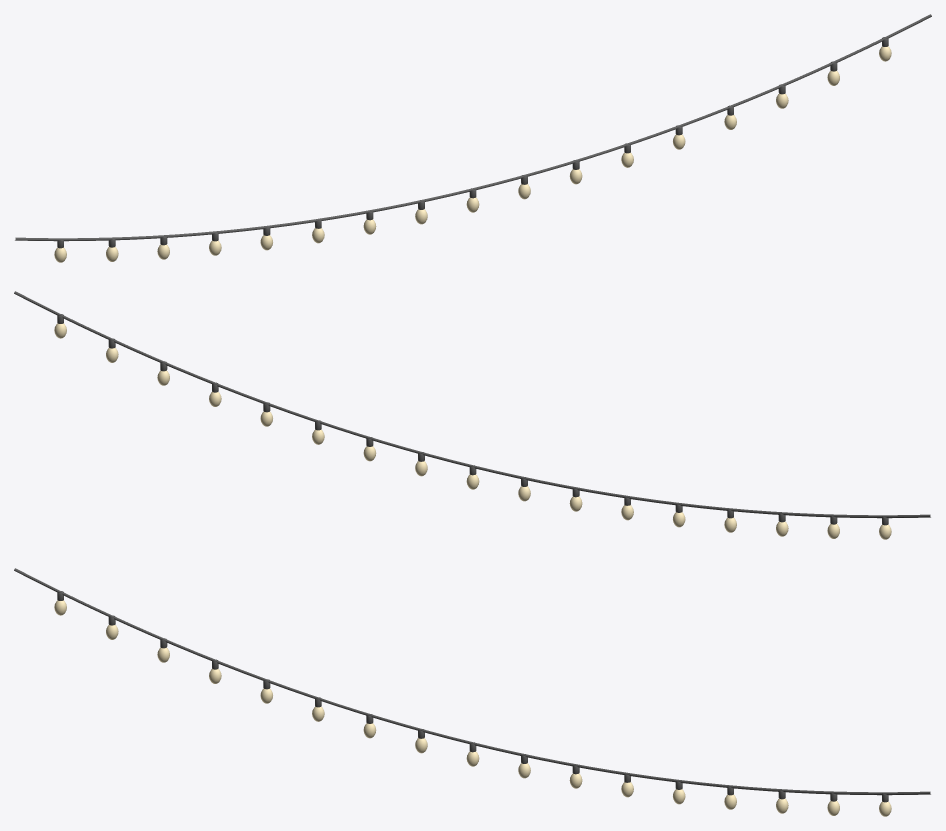
Rendered from PrimeCutLights.glb.
3 renders of one model, top to bottom at view 1: azimuth 30°, elevation 25°; view 2: azimuth 150°, elevation 25°; view 3: azimuth 330°, elevation 25°, orthographic.
Visible parts, largest first — view 1: Wire, Bulbs; view 2: Wire, Bulbs; view 3: Wire, Bulbs.
Boxes of the visible parts, x1=… form: Wire: x1=15, y1=14, x2=931, y2=248; Bulbs: x1=54, y1=46, x2=891, y2=262; Wire: x1=14, y1=291, x2=930, y2=525; Bulbs: x1=54, y1=323, x2=891, y2=539; Wire: x1=14, y1=568, x2=930, y2=802; Bulbs: x1=54, y1=600, x2=891, y2=816.
Bounding box in the file's own units: 40.03 × 3.6 × 0.48.
